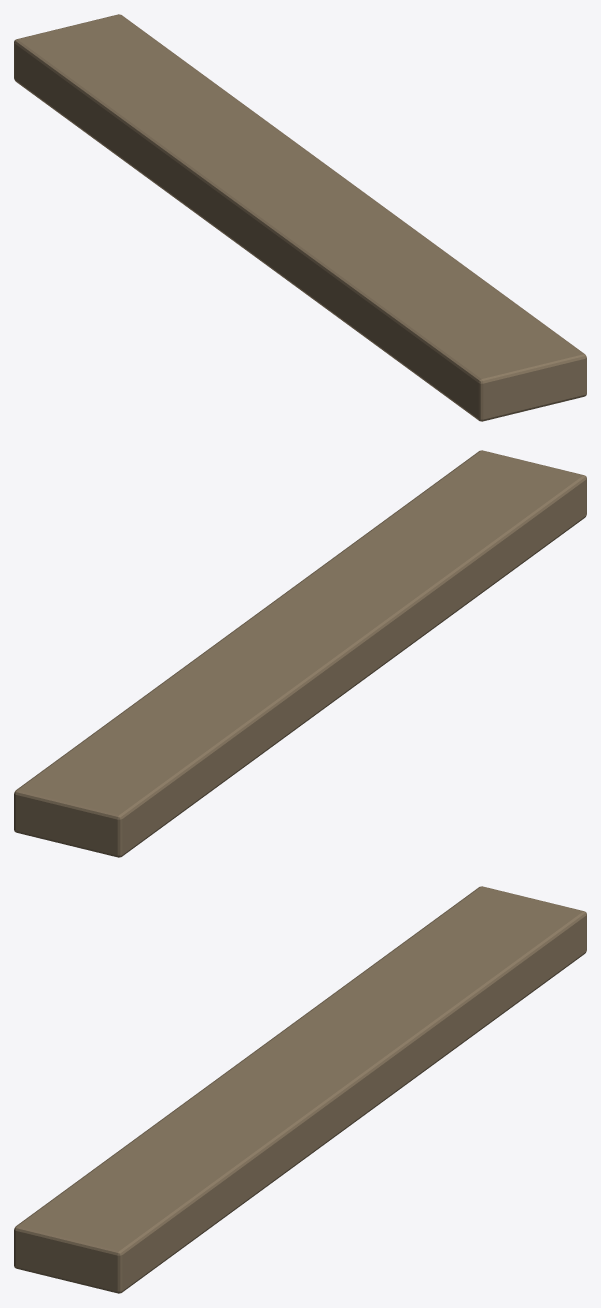
Rendered from Timber_Plank_360.glb.
3 views of the same model, one above another, from view 1: azimuth 30°, elevation 25°; view 2: azimuth 150°, elevation 25°; view 3: azimuth 330°, elevation 25° (orthographic).
Parts seen in each view (by area): view 1: Timber_Plank_360; view 2: Timber_Plank_360; view 3: Timber_Plank_360.
Part boxes in pixels (box(x1,y1,x2,y2)): Timber_Plank_360: box(14, 14, 586, 421); Timber_Plank_360: box(14, 450, 586, 857); Timber_Plank_360: box(14, 886, 586, 1293).
Bounding box in the file's own units: 0.48 × 0.18 × 3.6.
